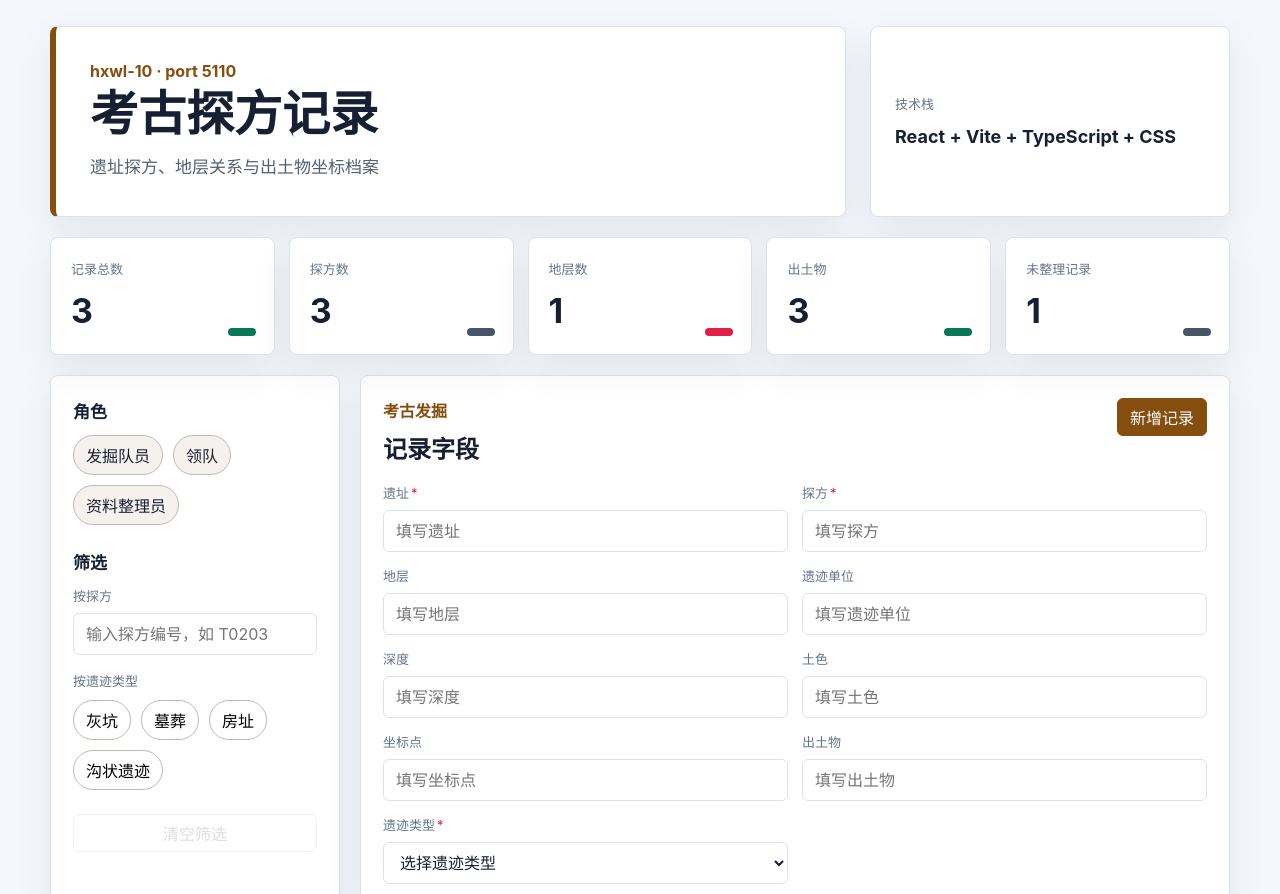
Scenario: 考古探方记录页 › 筛选：按探方、按遗迹类型筛选，并可一键清空
Check: the button "清空筛选" is disabled, box x1=73 y1=814 x2=317 y2=852
Type "T0203" into the field with placeholder "输入探方编号，如 T0203" at x=195, y=634, box x1=73 y1=613 x2=317 y2=655
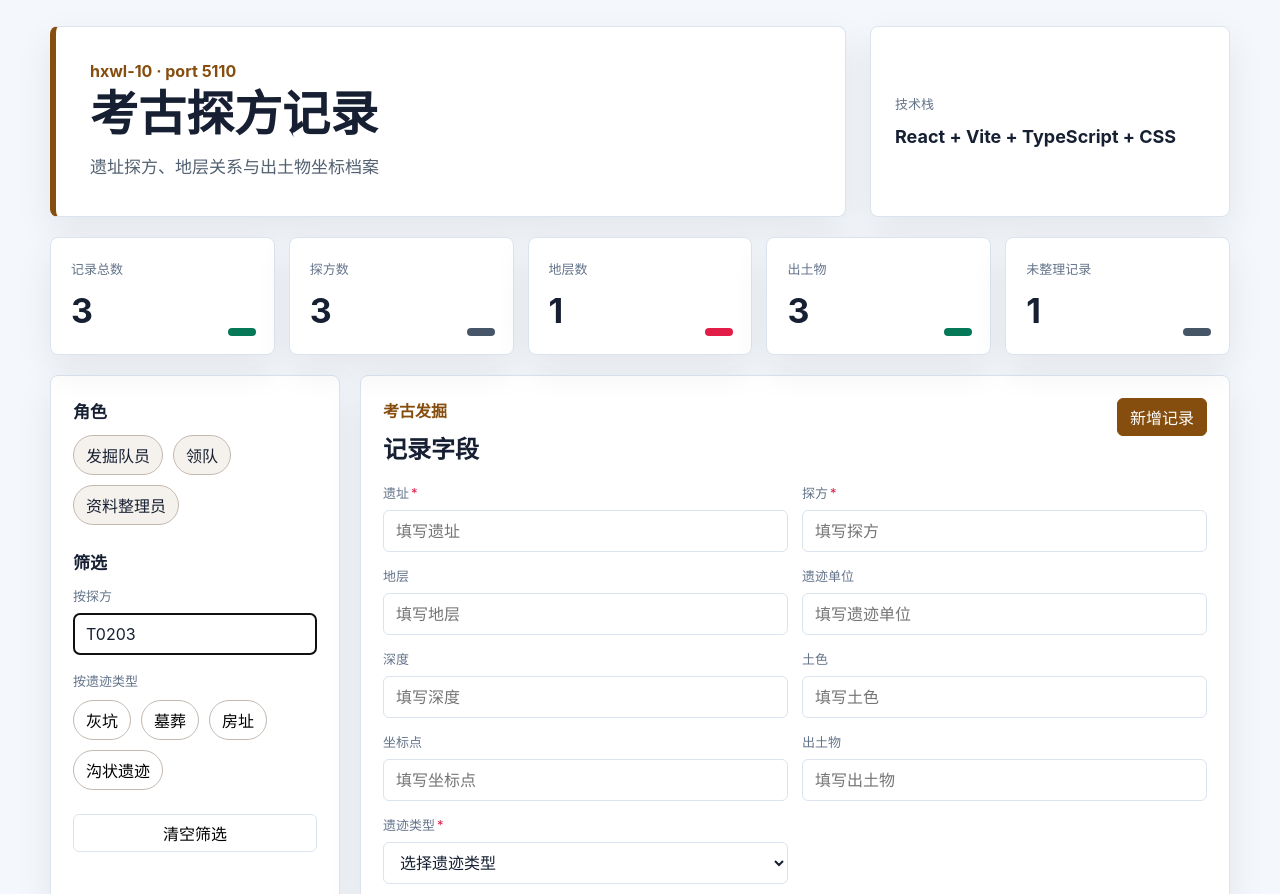
#  清空后恢复全部
Click the button "清空筛选" at x=195, y=833, box x1=73 y1=814 x2=317 y2=852
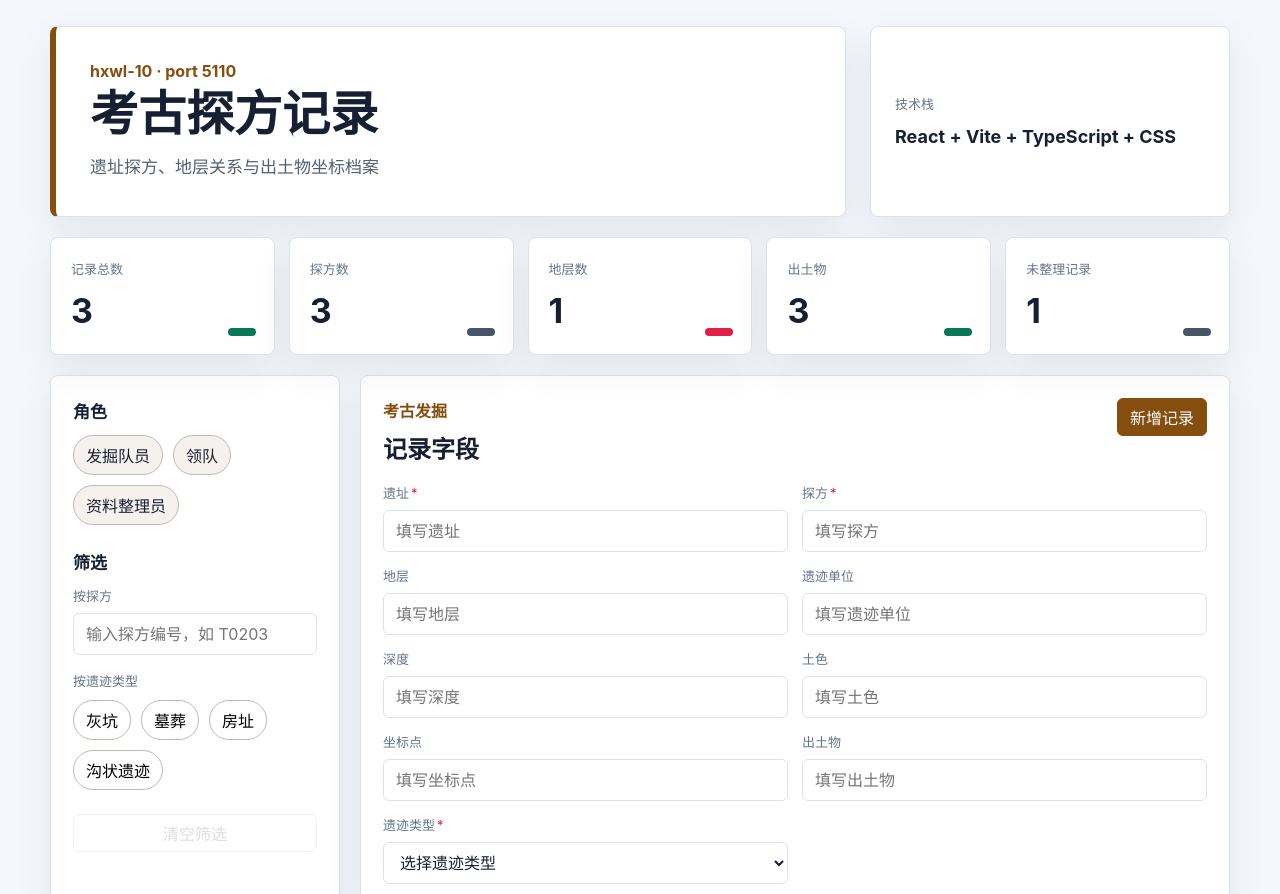
Check: the field with placeholder "输入探方编号，如 T0203" is empty, box x1=73 y1=613 x2=317 y2=655
#  按遗迹类型筛选
Click the button "灰坑" at x=102, y=720, box x1=73 y1=700 x2=131 y2=740
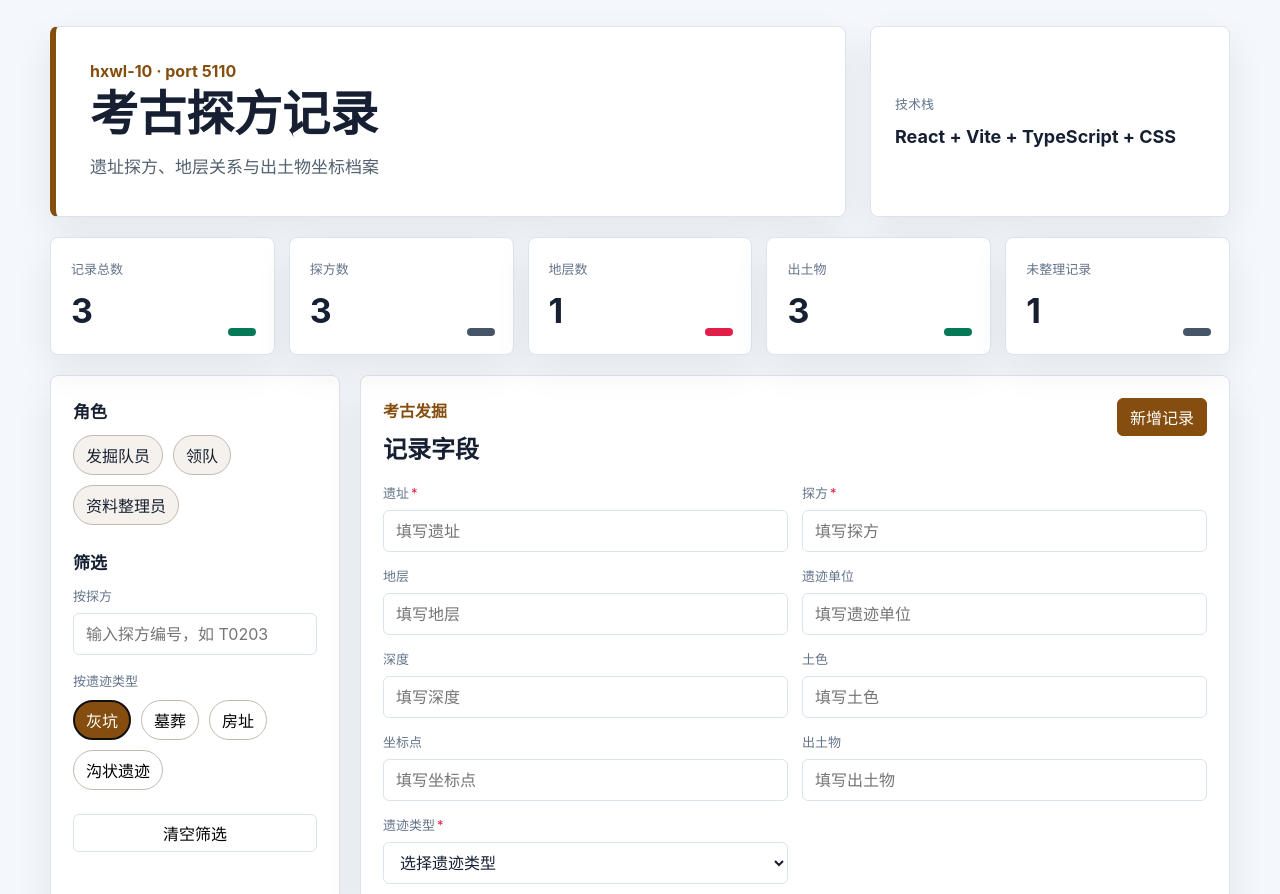
Check: the button "灰坑" is pressed, box x1=73 y1=700 x2=131 y2=740
# 组合筛选无结果时给出空状态提示
Type "T0301" into the field with placeholder "输入探方编号，如 T0203" at x=195, y=634, box x1=73 y1=613 x2=317 y2=655
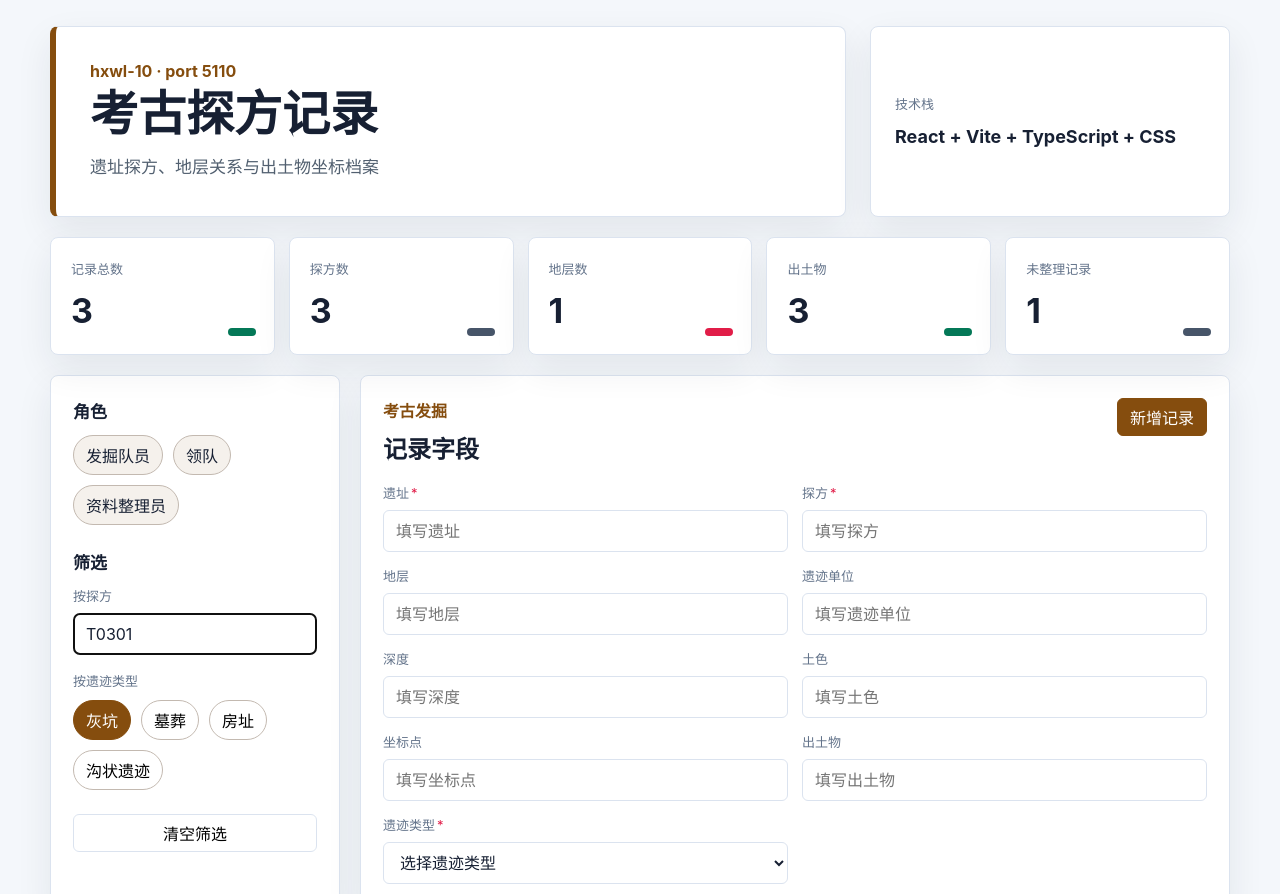
# 再次清空，三条示例记录全部回来
Click the button "清空筛选" at x=195, y=833, box x1=73 y1=814 x2=317 y2=852
(page scrolled)
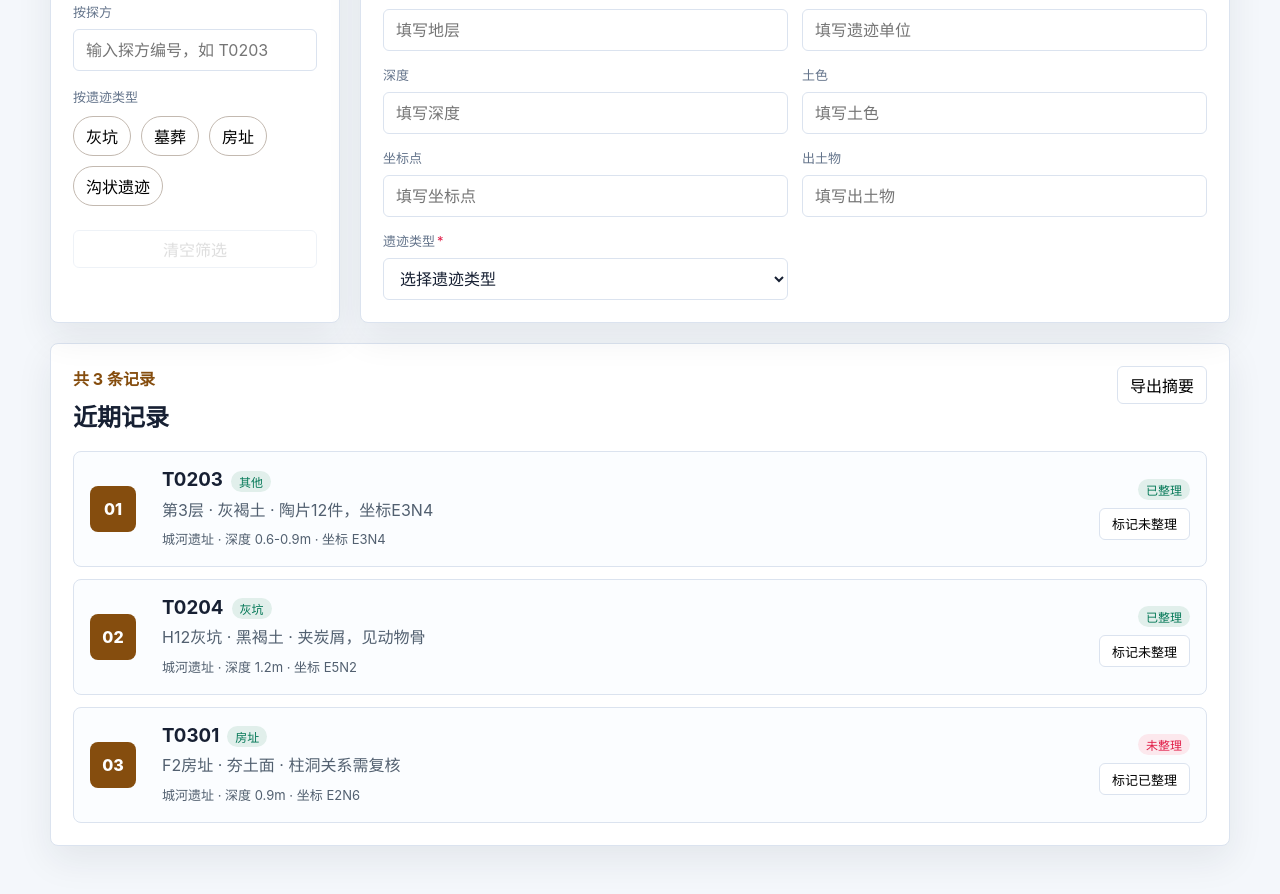
Check: the heading "T0203 其他" is shown, box x1=162 y1=468 x2=271 y2=492
Check: the heading "T0204 灰坑" is shown, box x1=162 y1=596 x2=272 y2=620
Check: the heading "T0301 房址" is shown, box x1=162 y1=724 x2=267 y2=747
